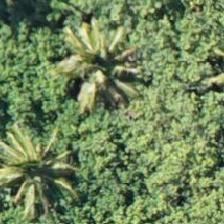coconut_tree: (55, 30, 145, 120), (0, 110, 86, 200)
